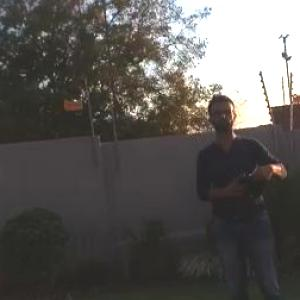follow: (190, 84, 290, 299)
